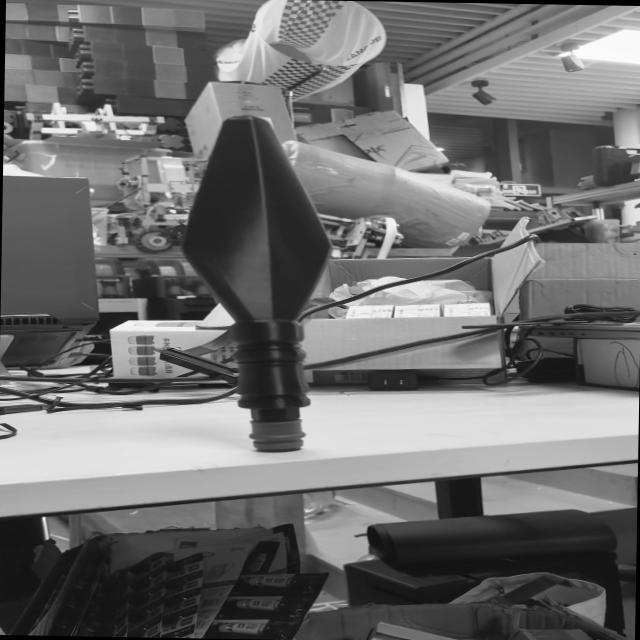base: (230, 415, 318, 457)
